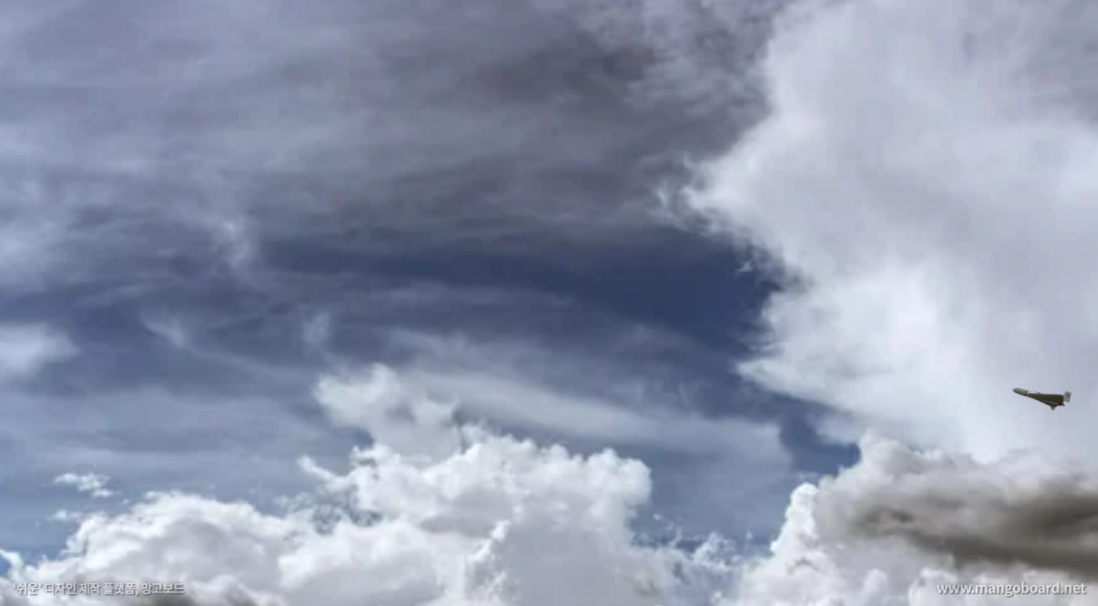military drone: (1012, 387, 1072, 410)
